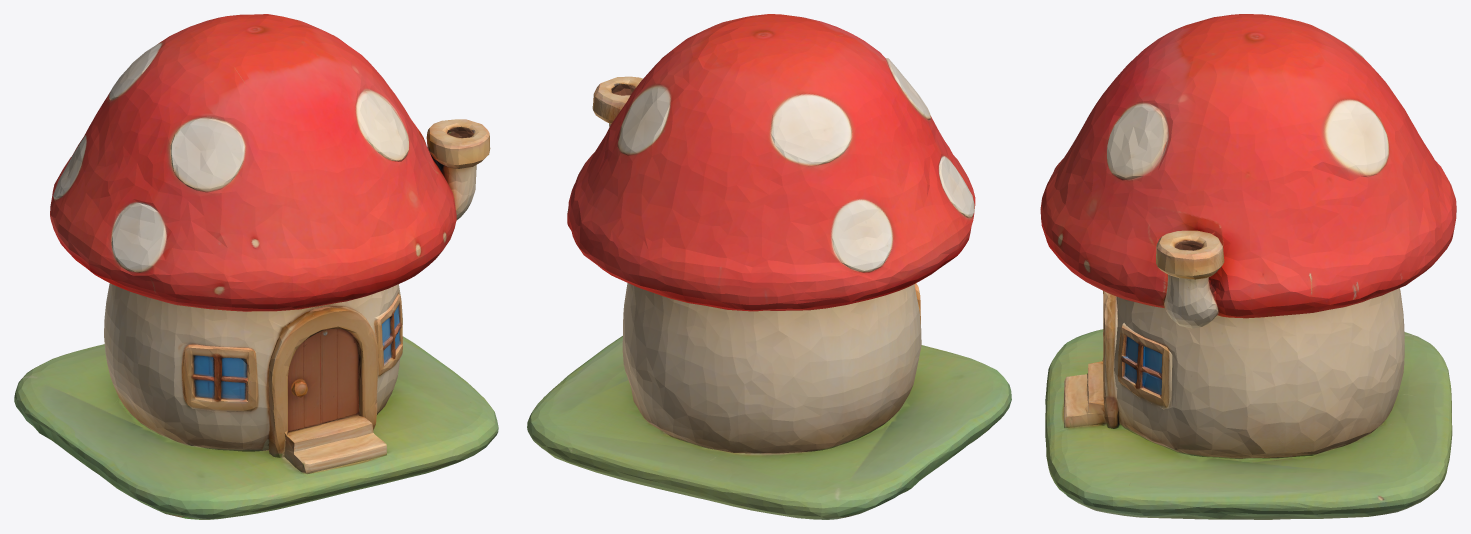
The model's file is mushroom.fbx.
3 views of the same model, side by side, from view 1: azimuth 30°, elevation 25°; view 2: azimuth 150°, elevation 25°; view 3: azimuth 270°, elevation 25° (orthographic).
Parts seen in each view (by area): view 1: temp; view 2: temp; view 3: temp.
Part boxes in pixels (left/top/right/bottom): temp: left=14, top=14, right=498, bottom=519; temp: left=527, top=14, right=1011, bottom=519; temp: left=1040, top=14, right=1456, bottom=519.
Bounding box in the file's own units: 194 × 200 × 180.
1 material, 1 textured.
